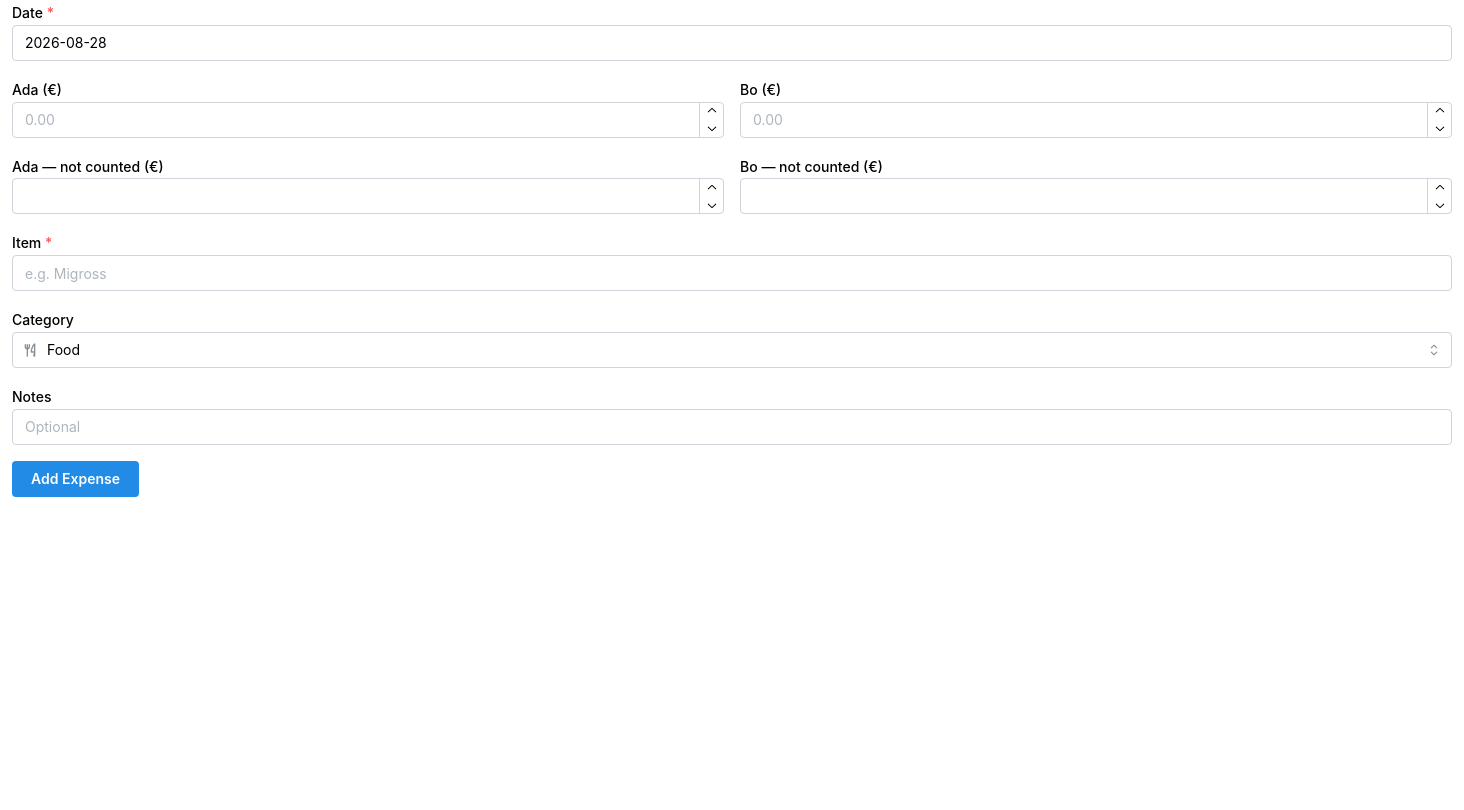
Test case: ExpenseForm › refuses more set aside than was paid, naming whose figure it is
In the field labelled "Item": (732, 273) x1=12 y1=255 x2=1452 y2=291, type "Shop"
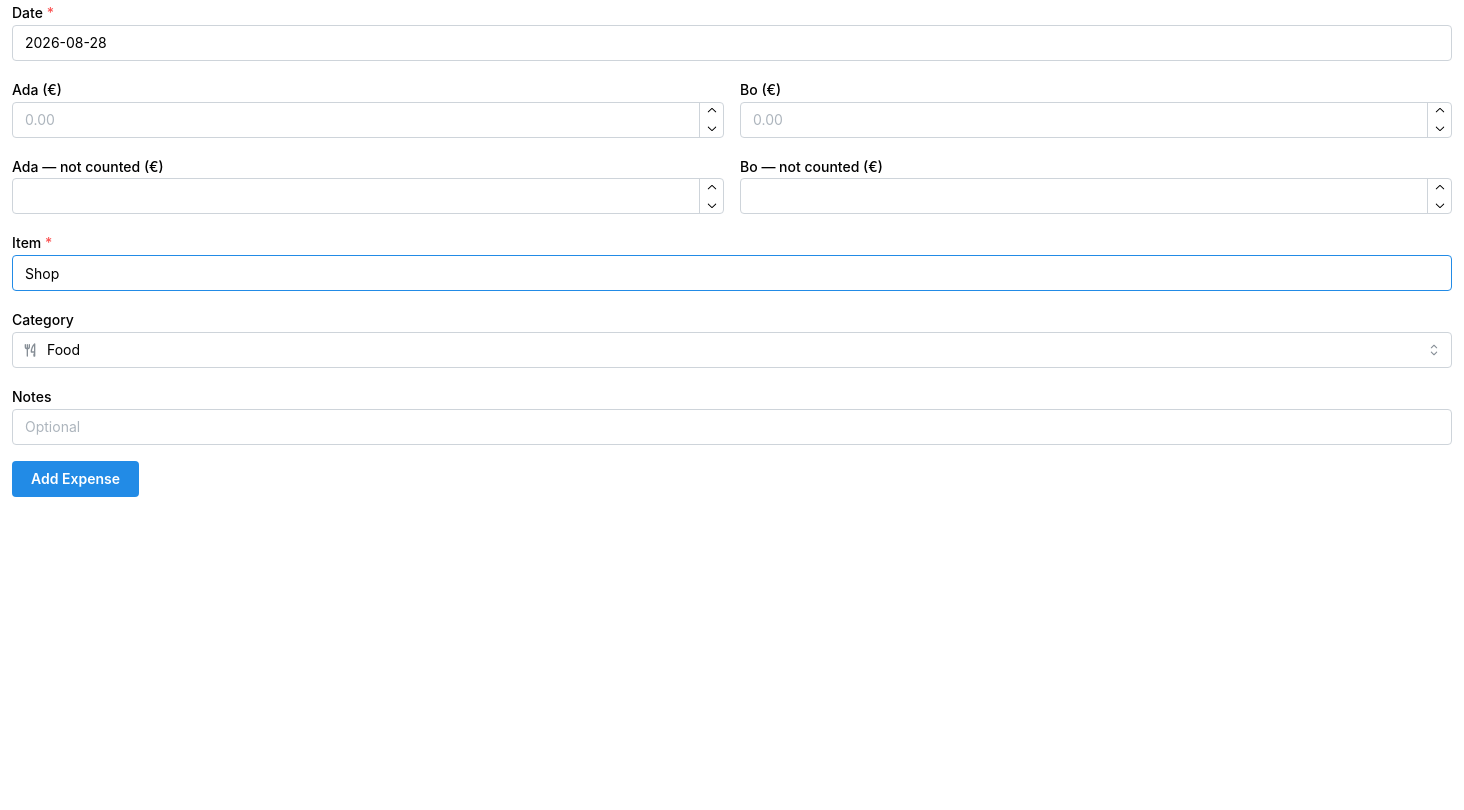
In the field labelled "Ada (€)": (368, 120) x1=12 y1=102 x2=724 y2=138, type "100"
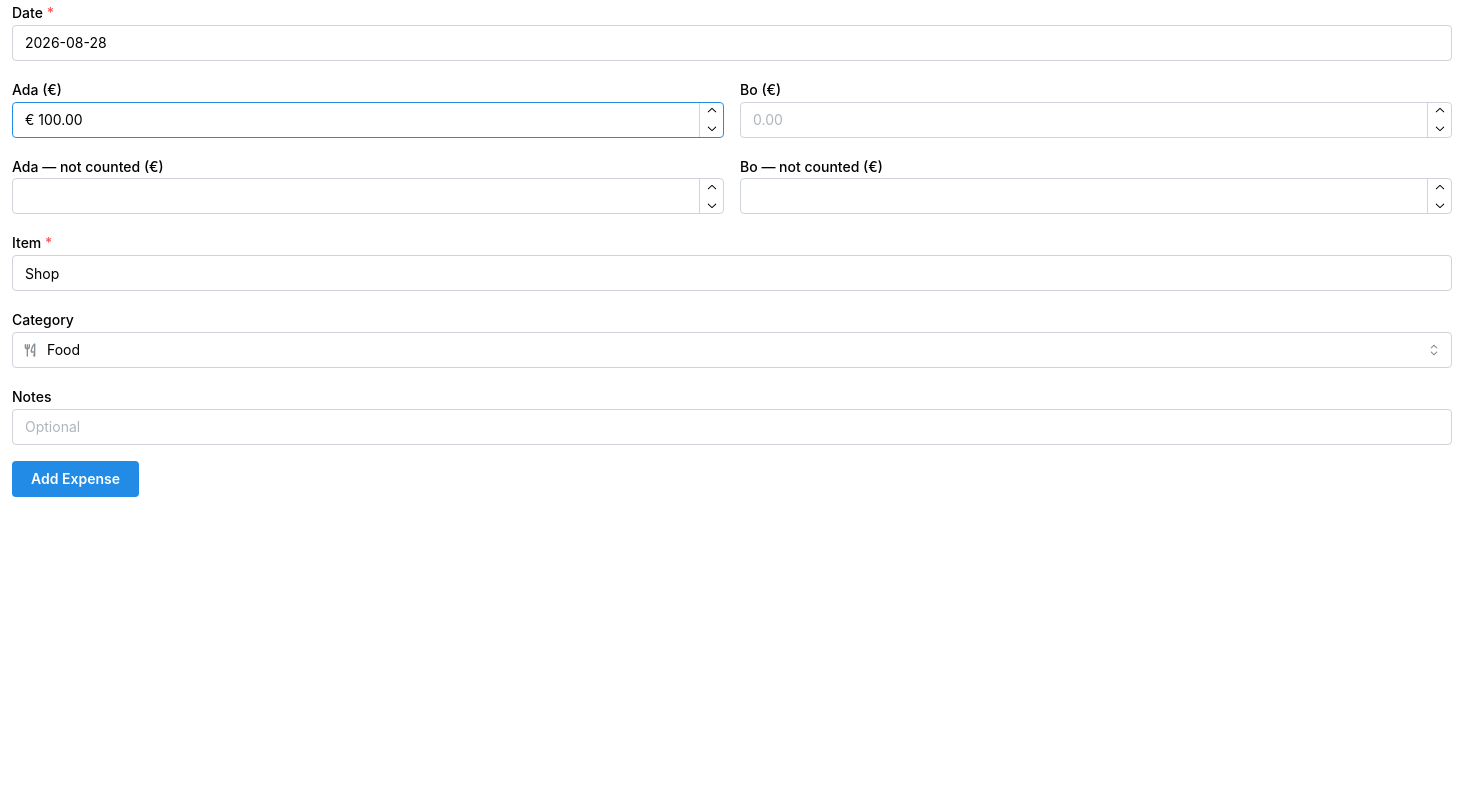
In the field labelled "Ada — not counted (€)": (368, 196) x1=12 y1=178 x2=724 y2=214, type "150"
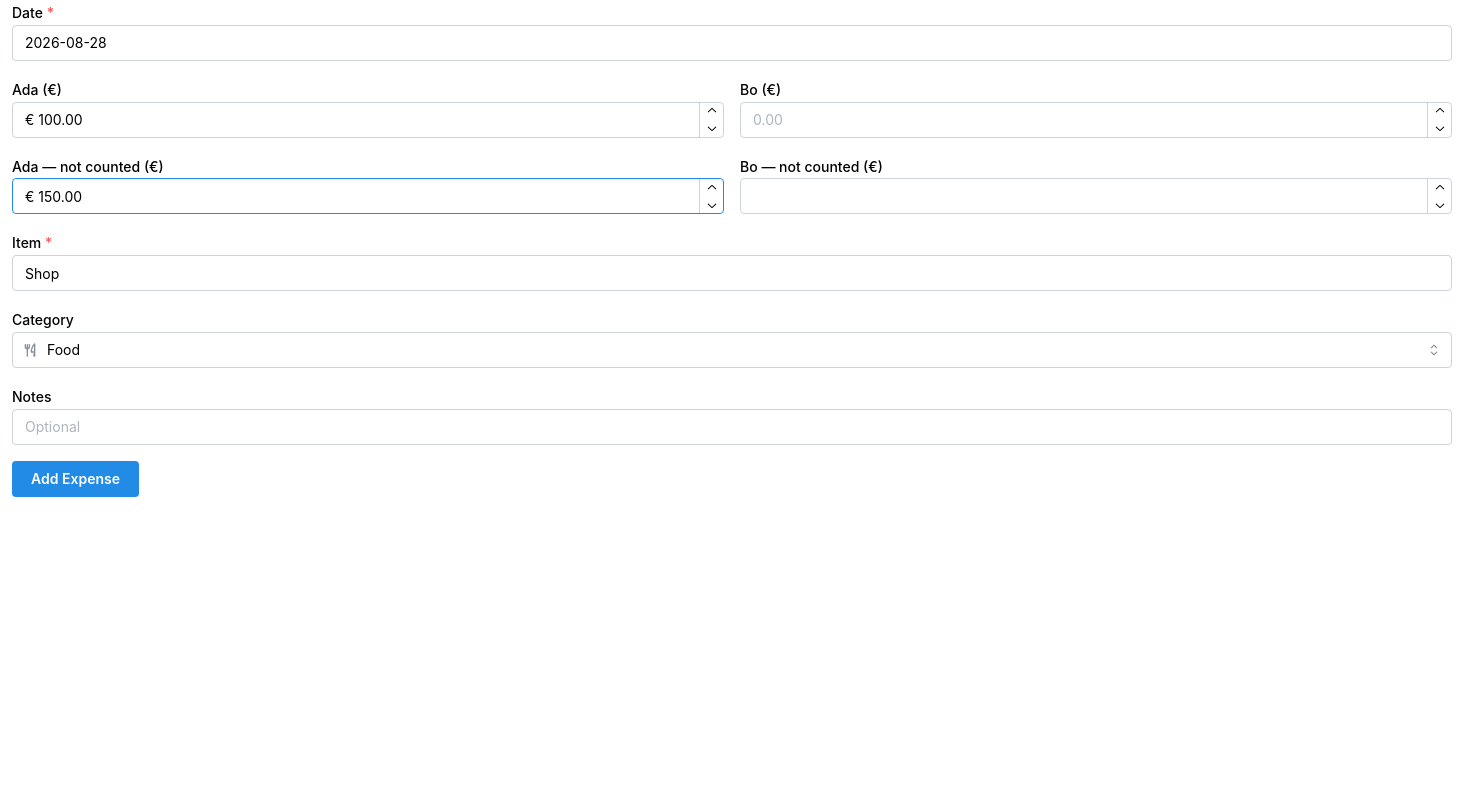
Click the button "Add Expense": (76, 479) x1=12 y1=461 x2=139 y2=497
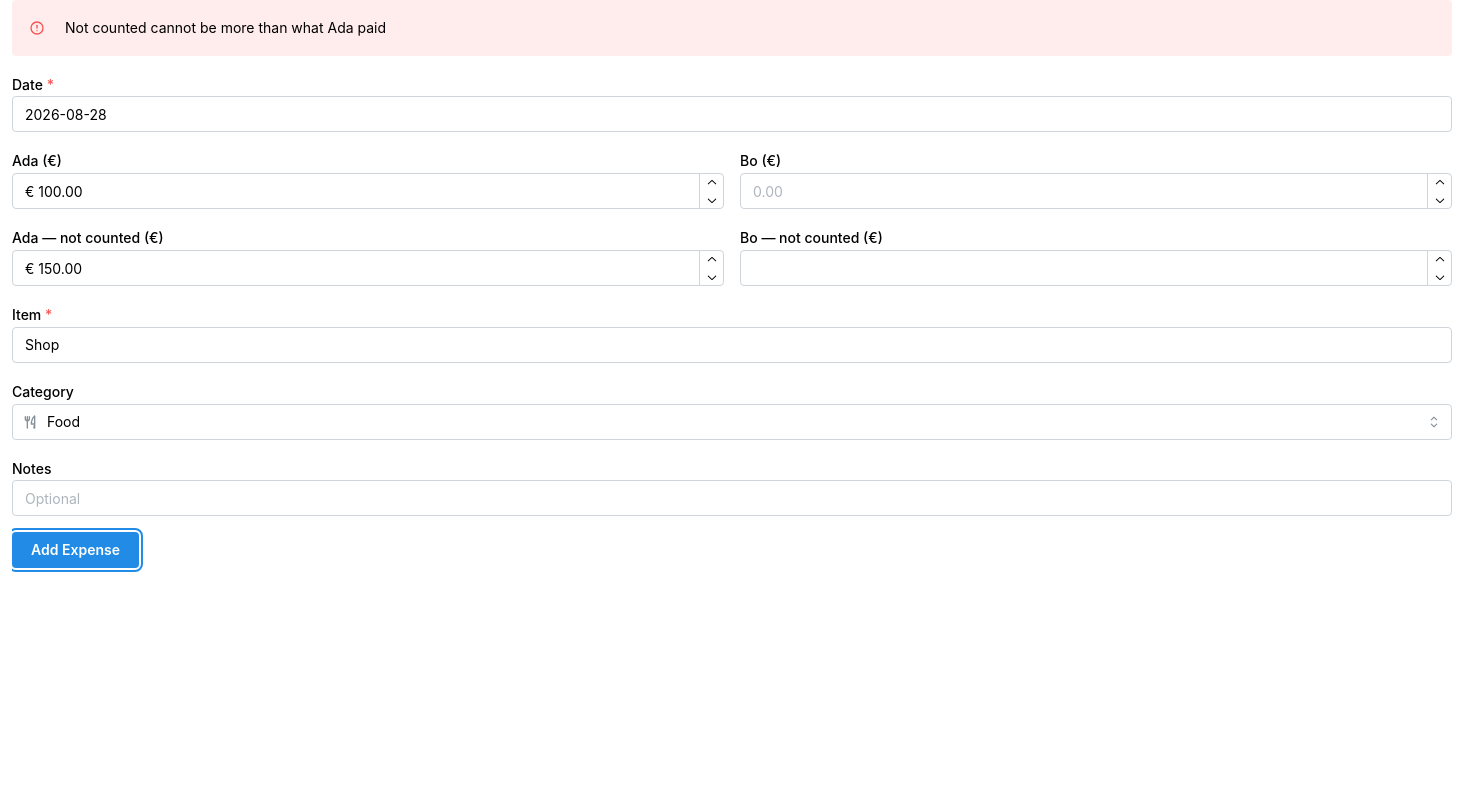
Now the text "Not counted cannot be more than what Ada paid" is shown, box x1=65 y1=19 x2=386 y2=36
